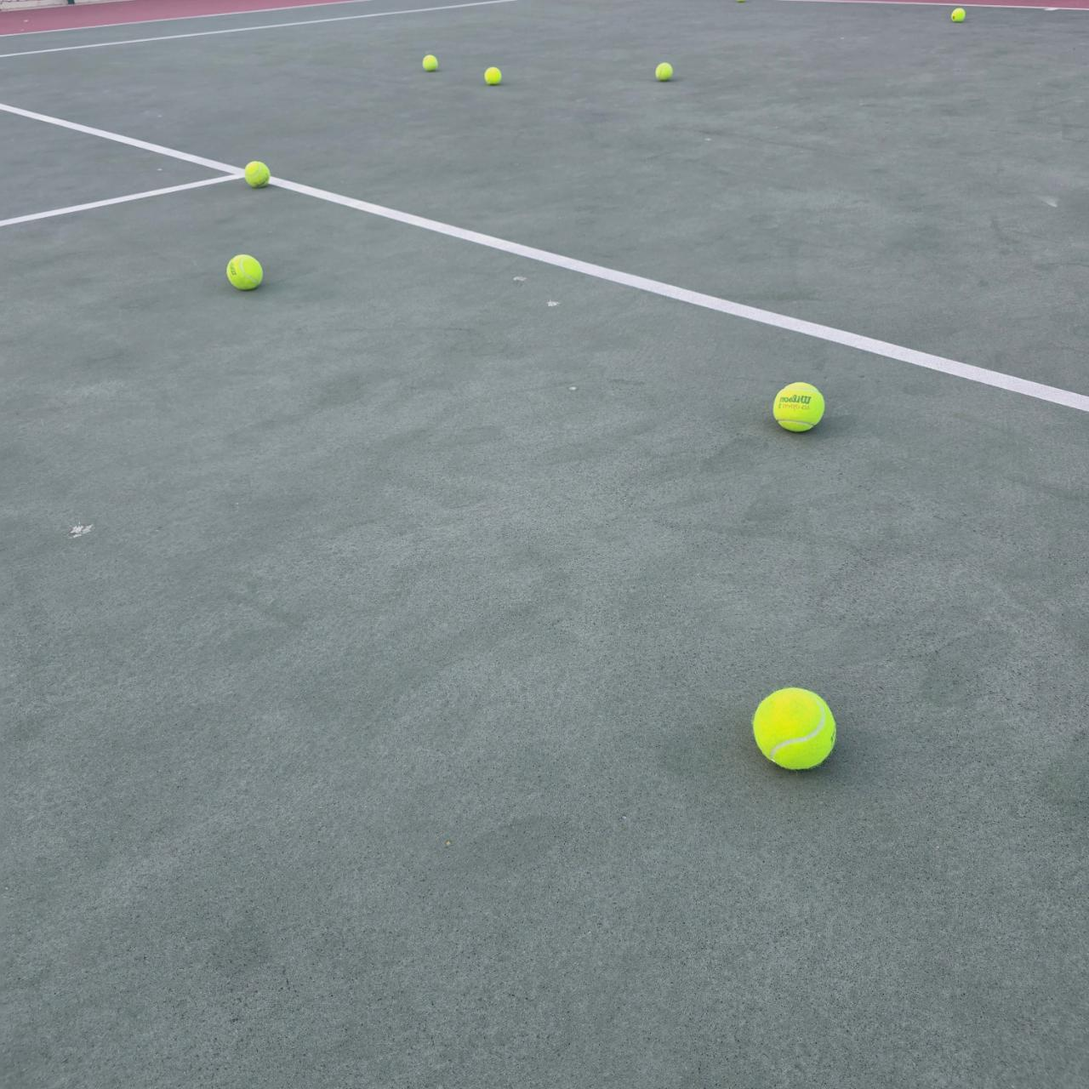tennis-ball: (752, 684, 839, 772), (773, 379, 827, 432), (226, 251, 265, 290), (244, 158, 272, 186), (656, 61, 674, 81), (484, 66, 502, 84), (422, 54, 439, 71), (951, 8, 966, 22)
